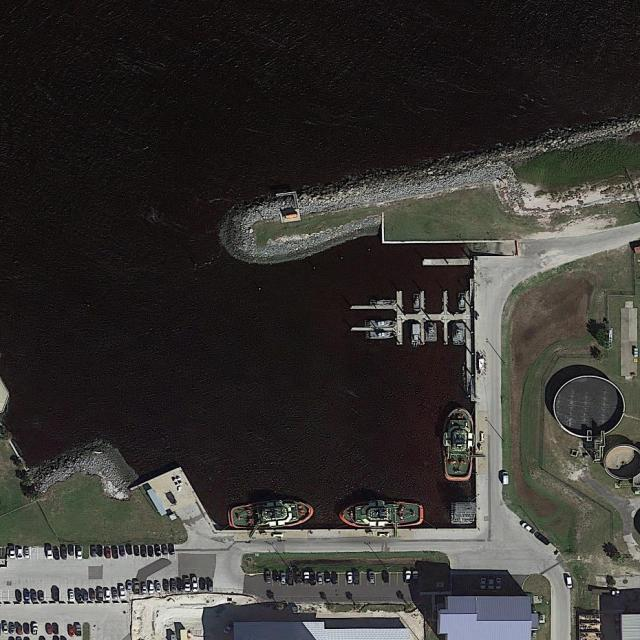Hovercraft: (226, 496, 315, 531), (339, 499, 424, 529), (444, 405, 475, 482)
Other Warship: (364, 318, 397, 328), (452, 323, 465, 345), (425, 323, 438, 343), (365, 331, 396, 339), (412, 323, 421, 348), (370, 298, 396, 306), (458, 292, 466, 312), (414, 293, 421, 312)
